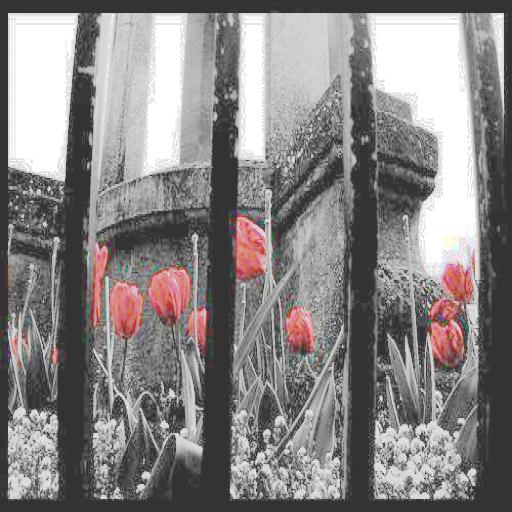tulip: (150, 263, 190, 321), (440, 252, 480, 306), (237, 214, 268, 282), (108, 278, 142, 338), (430, 313, 465, 364), (286, 301, 314, 349)
